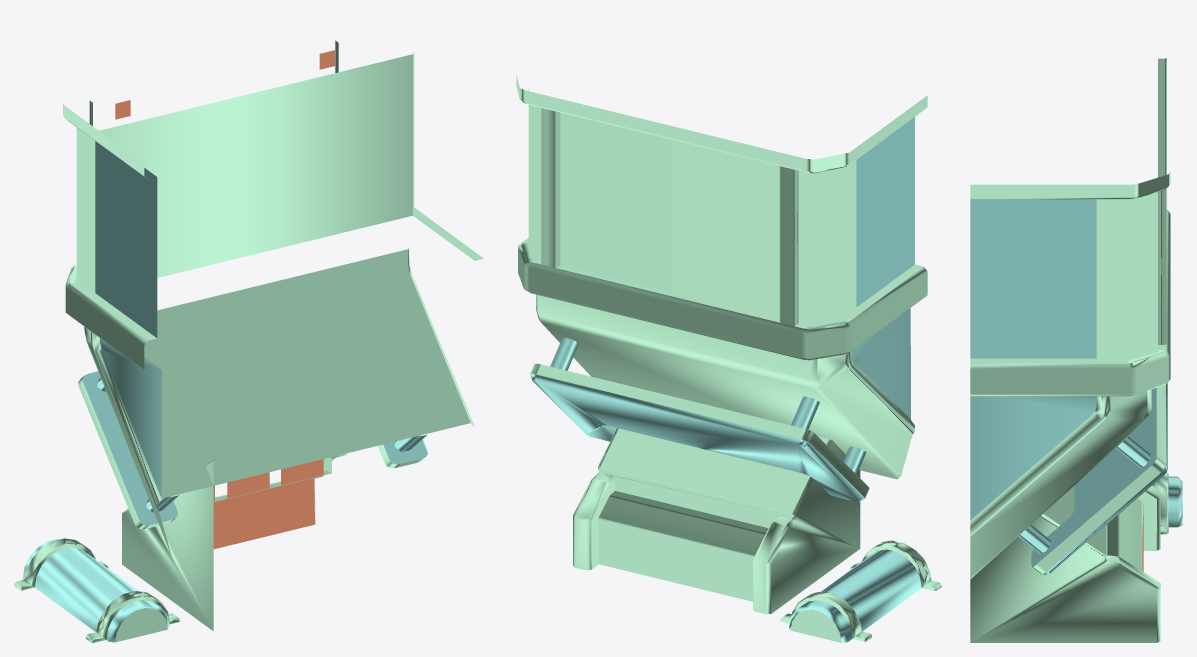
File: locker_spacesuit_1_b.glb
3 views of the same model, side by side, from view 1: azimuth 30°, elevation 25°; view 2: azimuth 150°, elevation 25°; view 3: azimuth 270°, elevation 25° (orthographic). The views are drawn at different scales.
Bounding box in the file's own units: 1.22 × 1.5 × 0.586.
